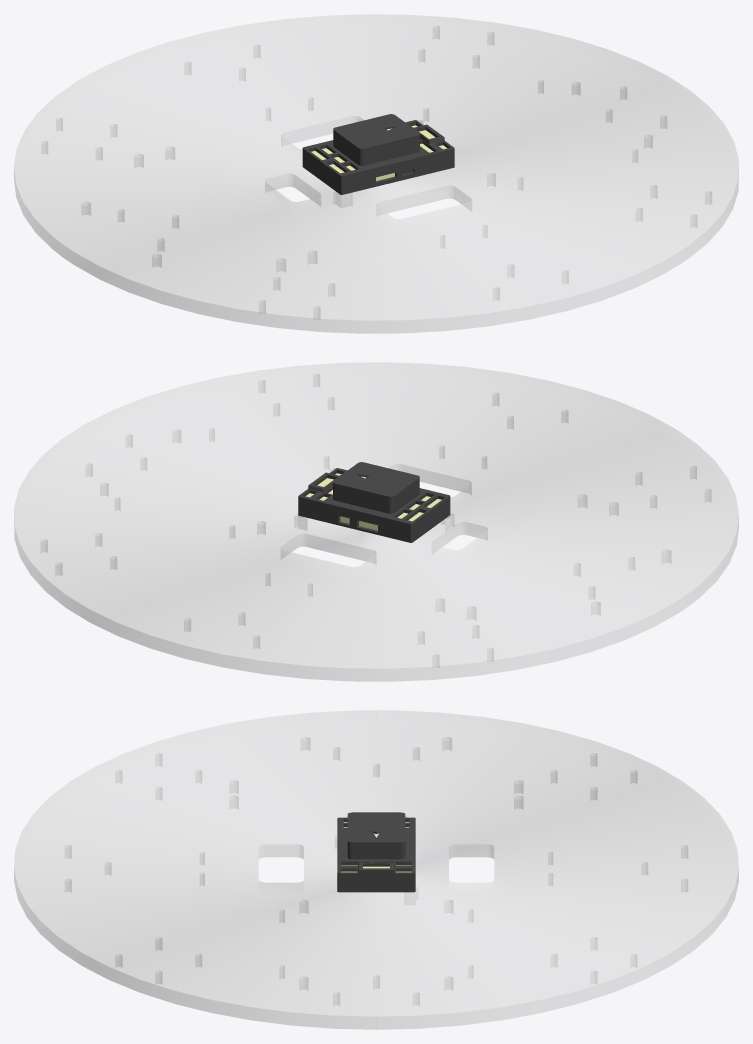
3 renders of one model, top to bottom at view 1: azimuth 30°, elevation 25°; view 2: azimuth 150°, elevation 25°; view 3: azimuth 270°, elevation 25°, orthographic.
Visible parts, largest first — view 1: alpha3_electronics_plate-1 - Part_clonedChild, alpha3_electronics_plate-1 - Part, PIXHAWK 6X MINI-1 - Part; view 2: alpha3_electronics_plate-1 - Part_clonedChild, alpha3_electronics_plate-1 - Part, PIXHAWK 6X MINI-1 - Part, PIXHAWK 6X MINI-1 - Part 2; view 3: alpha3_electronics_plate-1 - Part_clonedChild, alpha3_electronics_plate-1 - Part, PIXHAWK 6X MINI-1 - Part.
Boxes of the visible parts, x1,y1,x2,y2 form: alpha3_electronics_plate-1 - Part_clonedChild: (14, 14, 738, 333); alpha3_electronics_plate-1 - Part: (14, 15, 738, 332); PIXHAWK 6X MINI-1 - Part: (302, 114, 454, 194); alpha3_electronics_plate-1 - Part_clonedChild: (14, 362, 738, 681); alpha3_electronics_plate-1 - Part: (14, 363, 738, 680); PIXHAWK 6X MINI-1 - Part: (298, 462, 450, 542); PIXHAWK 6X MINI-1 - Part 2: (305, 473, 441, 530); alpha3_electronics_plate-1 - Part_clonedChild: (14, 710, 738, 1029); alpha3_electronics_plate-1 - Part: (14, 710, 738, 1028); PIXHAWK 6X MINI-1 - Part: (337, 812, 415, 892).
Bounding box in the file's own units: 0.4 × 0.0299 × 0.3998.
4 materials, 1 textured.
